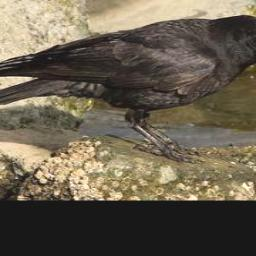Crow: (0, 13, 256, 163)
